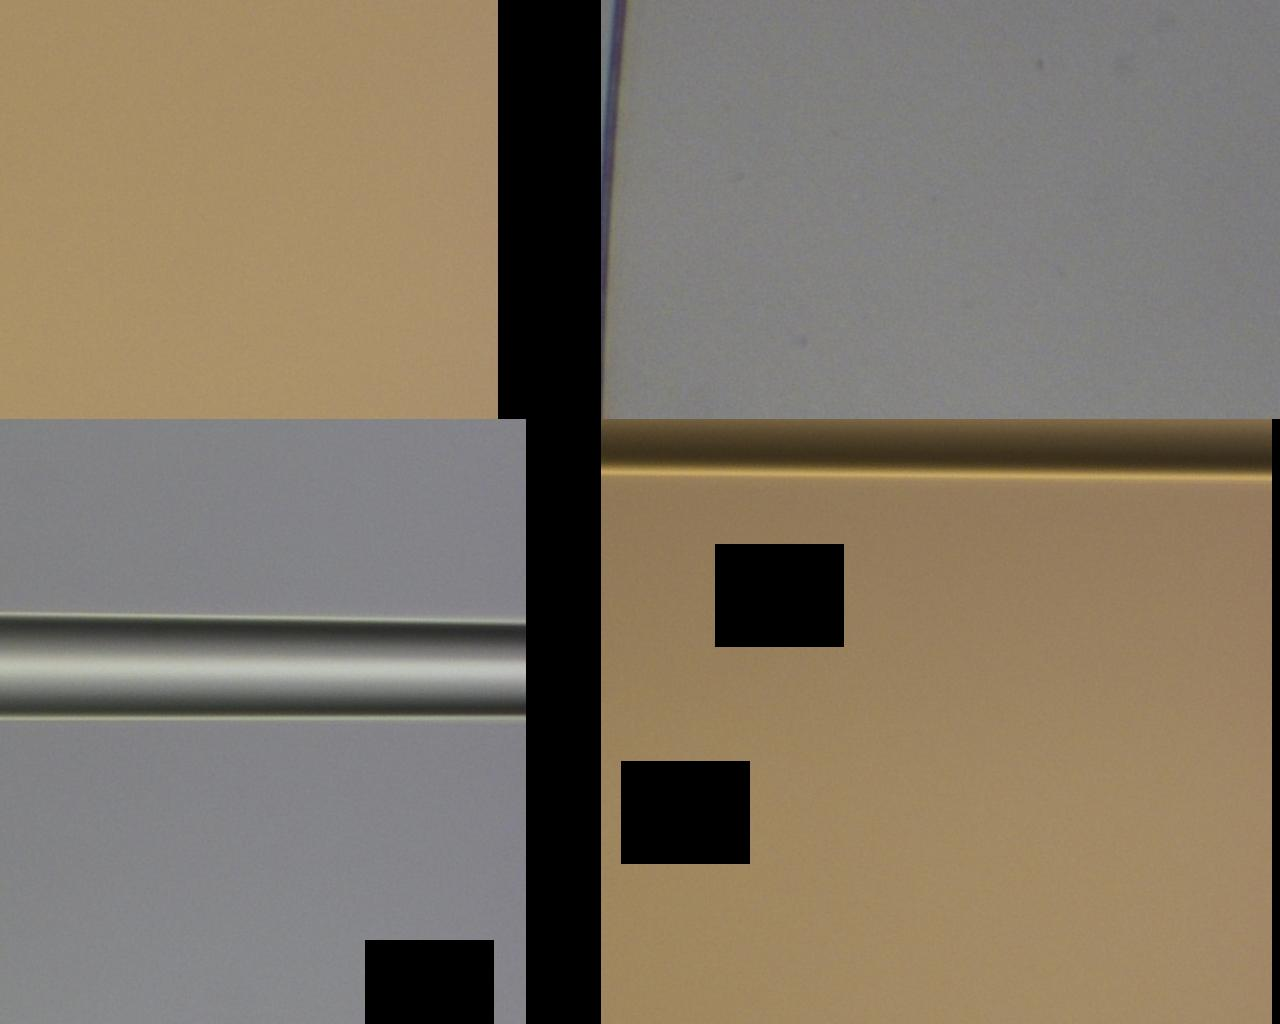fiber: (128, 380, 1152, 490)
